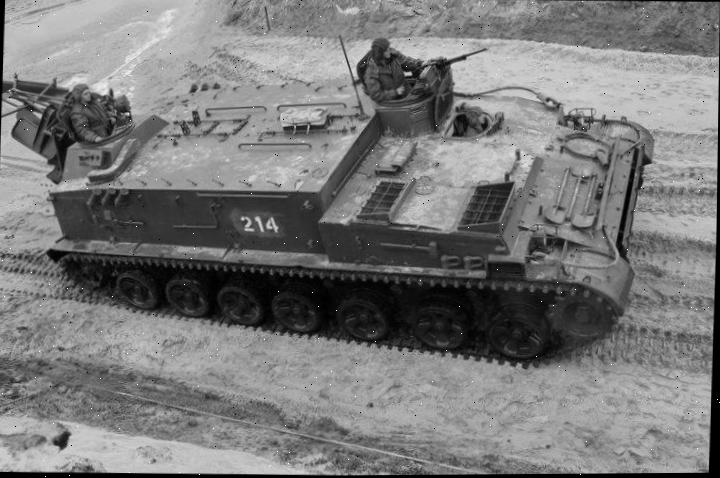armored_car: (19, 19, 644, 375)
